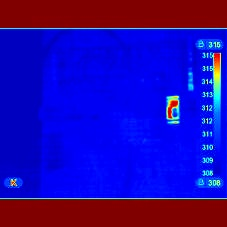Less: (172, 107, 180, 119)
